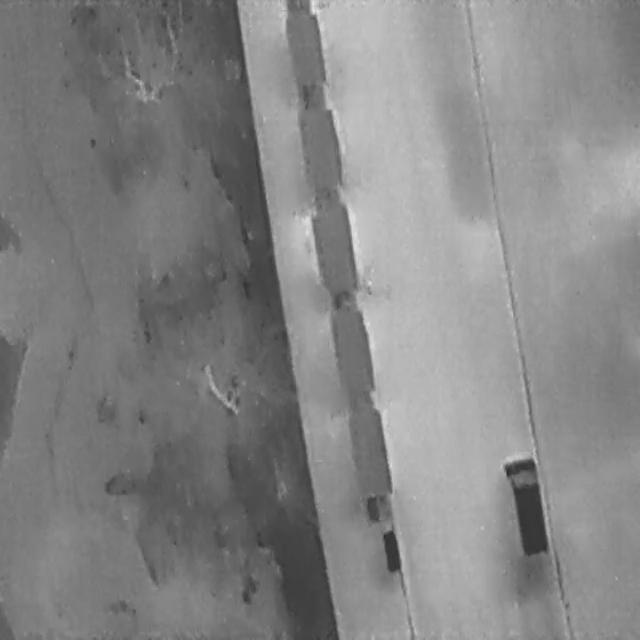OtherVehicle: (500, 450, 551, 561)
